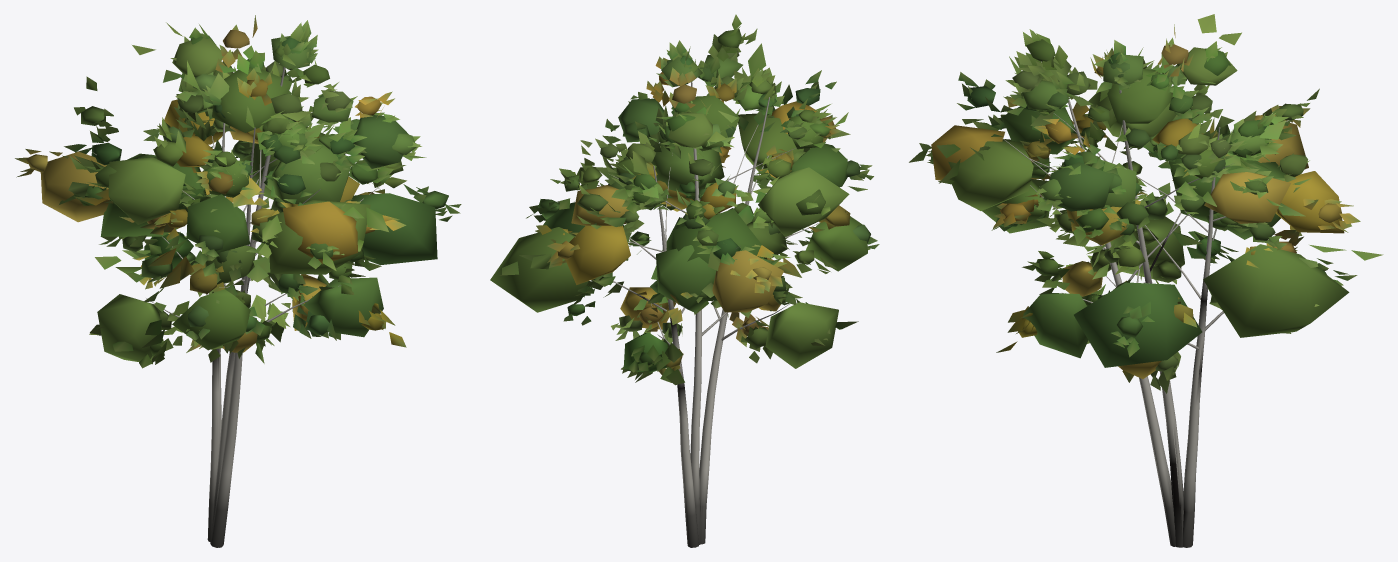
The model's file is paper-birch.glb.
3 views of the same model, side by side, from view 1: azimuth 30°, elevation 25°; view 2: azimuth 150°, elevation 25°; view 3: azimuth 270°, elevation 25° (orthographic). The views are drawn at different scales.
Parts seen in each view (by area): view 1: paper-birch-lo, paper-birch; view 2: paper-birch-lo, paper-birch; view 3: paper-birch-lo, paper-birch.
Part boxes in pixels (<box>): paper-birch-lo: <box>40,22,437,547</box>; paper-birch: <box>15,15,461,547</box>; paper-birch-lo: <box>490,43,867,547</box>; paper-birch: <box>498,14,879,547</box>; paper-birch-lo: <box>931,14,1383,547</box>; paper-birch: <box>909,24,1360,547</box>.
Bounding box in the file's own units: 9.31 × 12.93 × 10.48.
